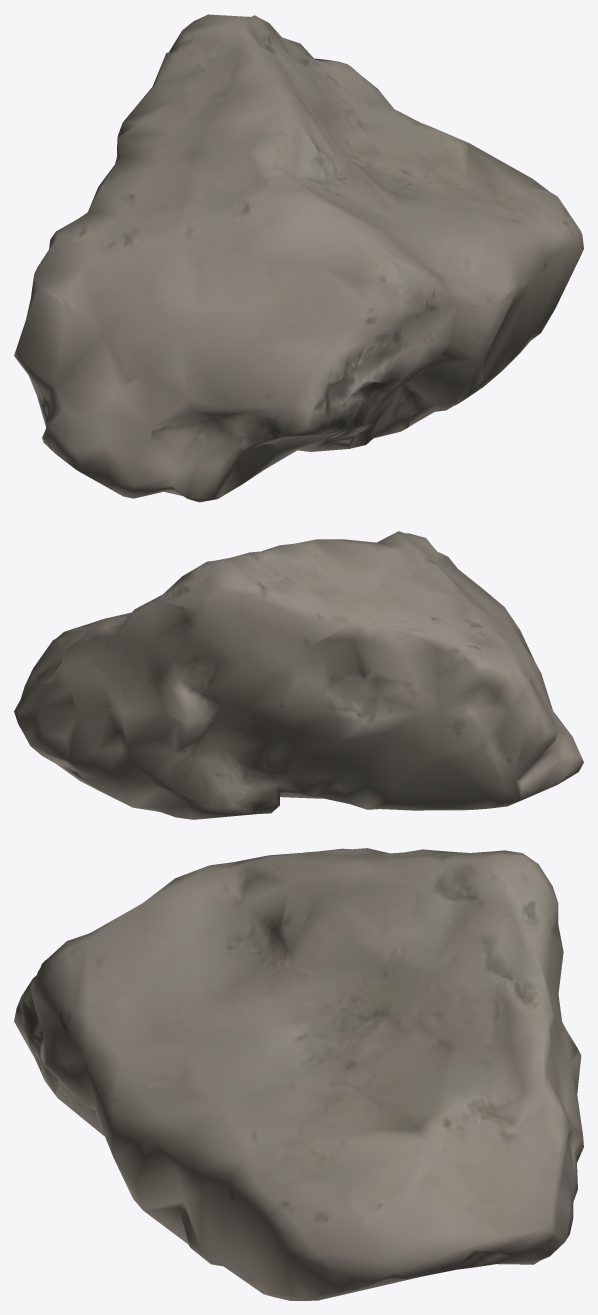
Rendered from moon_rock_03.glb.
3 renders of one model, top to bottom at view 1: azimuth 30°, elevation 25°; view 2: azimuth 150°, elevation 25°; view 3: azimuth 270°, elevation 25°, orthographic. The views are drawn at different scales.
Visible parts, largest first — view 1: moon_rock_03_LOD0; view 2: moon_rock_03_LOD0; view 3: moon_rock_03_LOD0.
Part boxes in pixels (<box>): moon_rock_03_LOD0: <box>14,14,583,502</box>; moon_rock_03_LOD0: <box>14,531,583,819</box>; moon_rock_03_LOD0: <box>14,848,583,1300</box>.
Size of the model in its own units: 0.112 by 0.0582 by 0.0861.
1 material, 1 textured.
